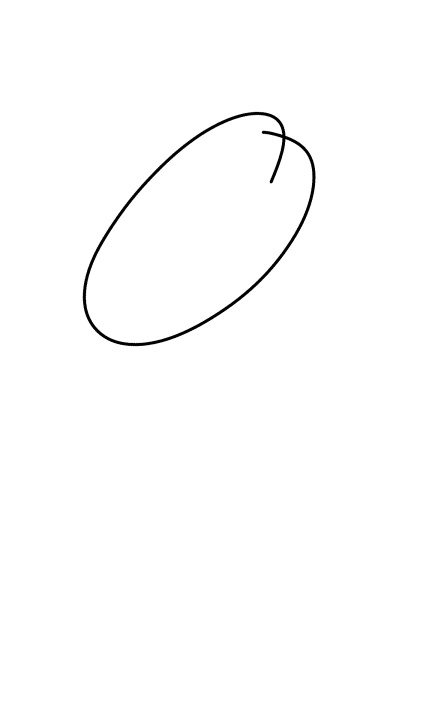Circle: (77, 108, 321, 351)
